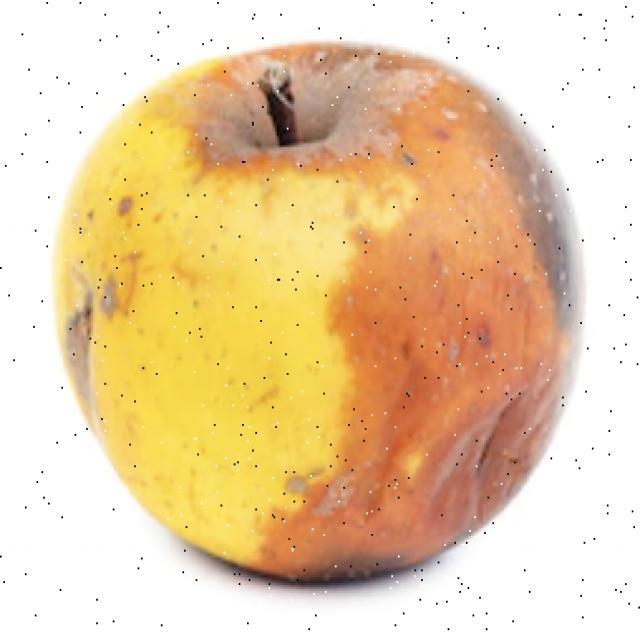Rotten: (66, 51, 621, 640)
